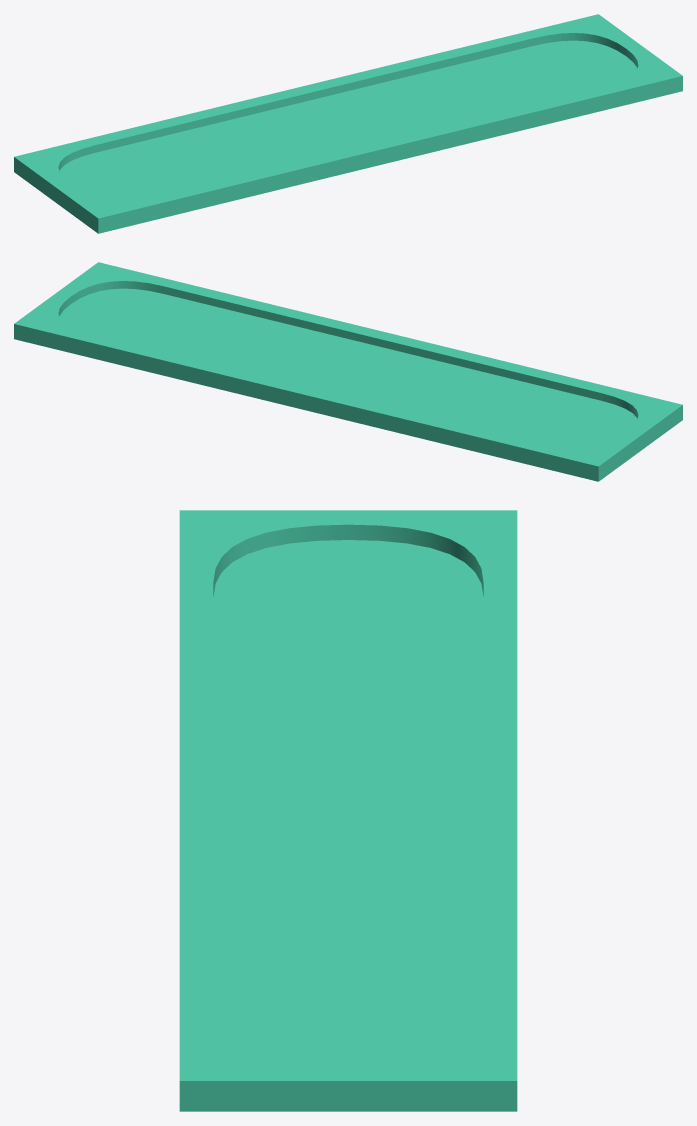
The model's file is Floor_4x1m_B.FBX.
3 renders of one model, top to bottom at view 1: azimuth 30°, elevation 25°; view 2: azimuth 150°, elevation 25°; view 3: azimuth 270°, elevation 25°, orthographic. The views are drawn at different scales.
Parts seen in each view (by area): view 1: Floor_4x1m_B; view 2: Floor_4x1m_B; view 3: Floor_4x1m_B.
Part boxes in pixels (x1=…): Floor_4x1m_B: x1=14, y1=14, x2=682, y2=233; Floor_4x1m_B: x1=14, y1=262, x2=682, y2=481; Floor_4x1m_B: x1=179, y1=510, x2=517, y2=1111.
Size of the model in its own units: 400 by 10 by 100.
